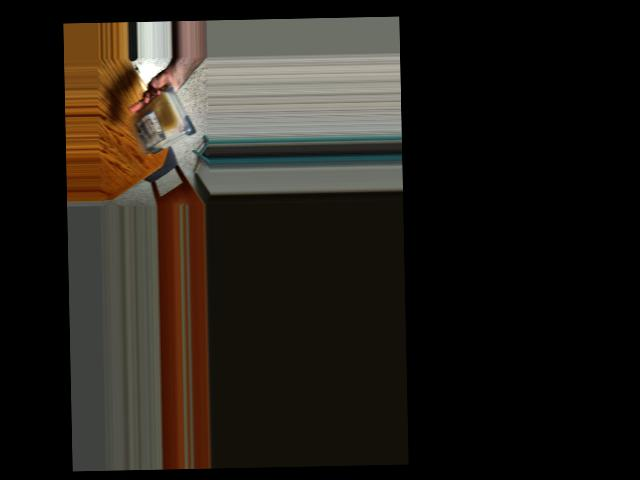cheese: (133, 91, 184, 152)
